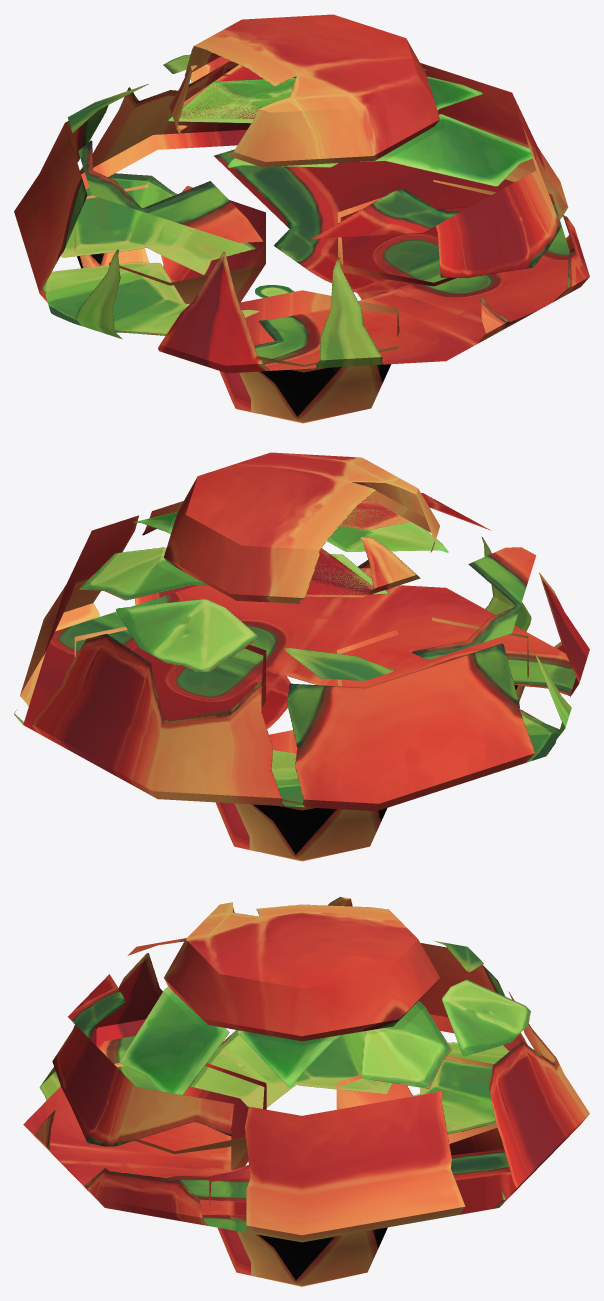
Rendered from alieno5.obj.
3 renders of one model, top to bottom at view 1: azimuth 30°, elevation 25°; view 2: azimuth 150°, elevation 25°; view 3: azimuth 270°, elevation 25°, orthographic. The views are drawn at different scales.
Parts seen in each view (by area): view 1: Object_15; view 2: Object_15; view 3: Object_15.
Part boxes in pixels (x1=…): Object_15: x1=14, y1=14, x2=589, y2=423; Object_15: x1=14, y1=452, x2=589, y2=861; Object_15: x1=23, y1=897, x2=589, y2=1286.
Size of the model in its own units: 6.87 by 3.94 by 6.87.
